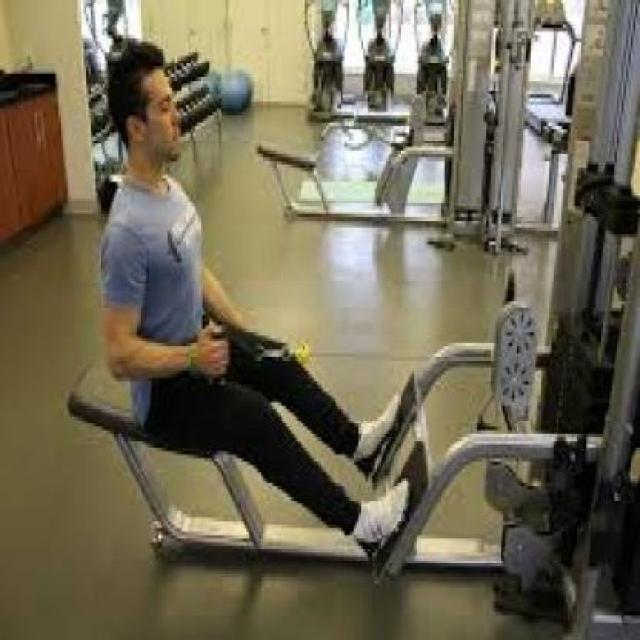Seated Cable Rows: (60, 29, 638, 640)
